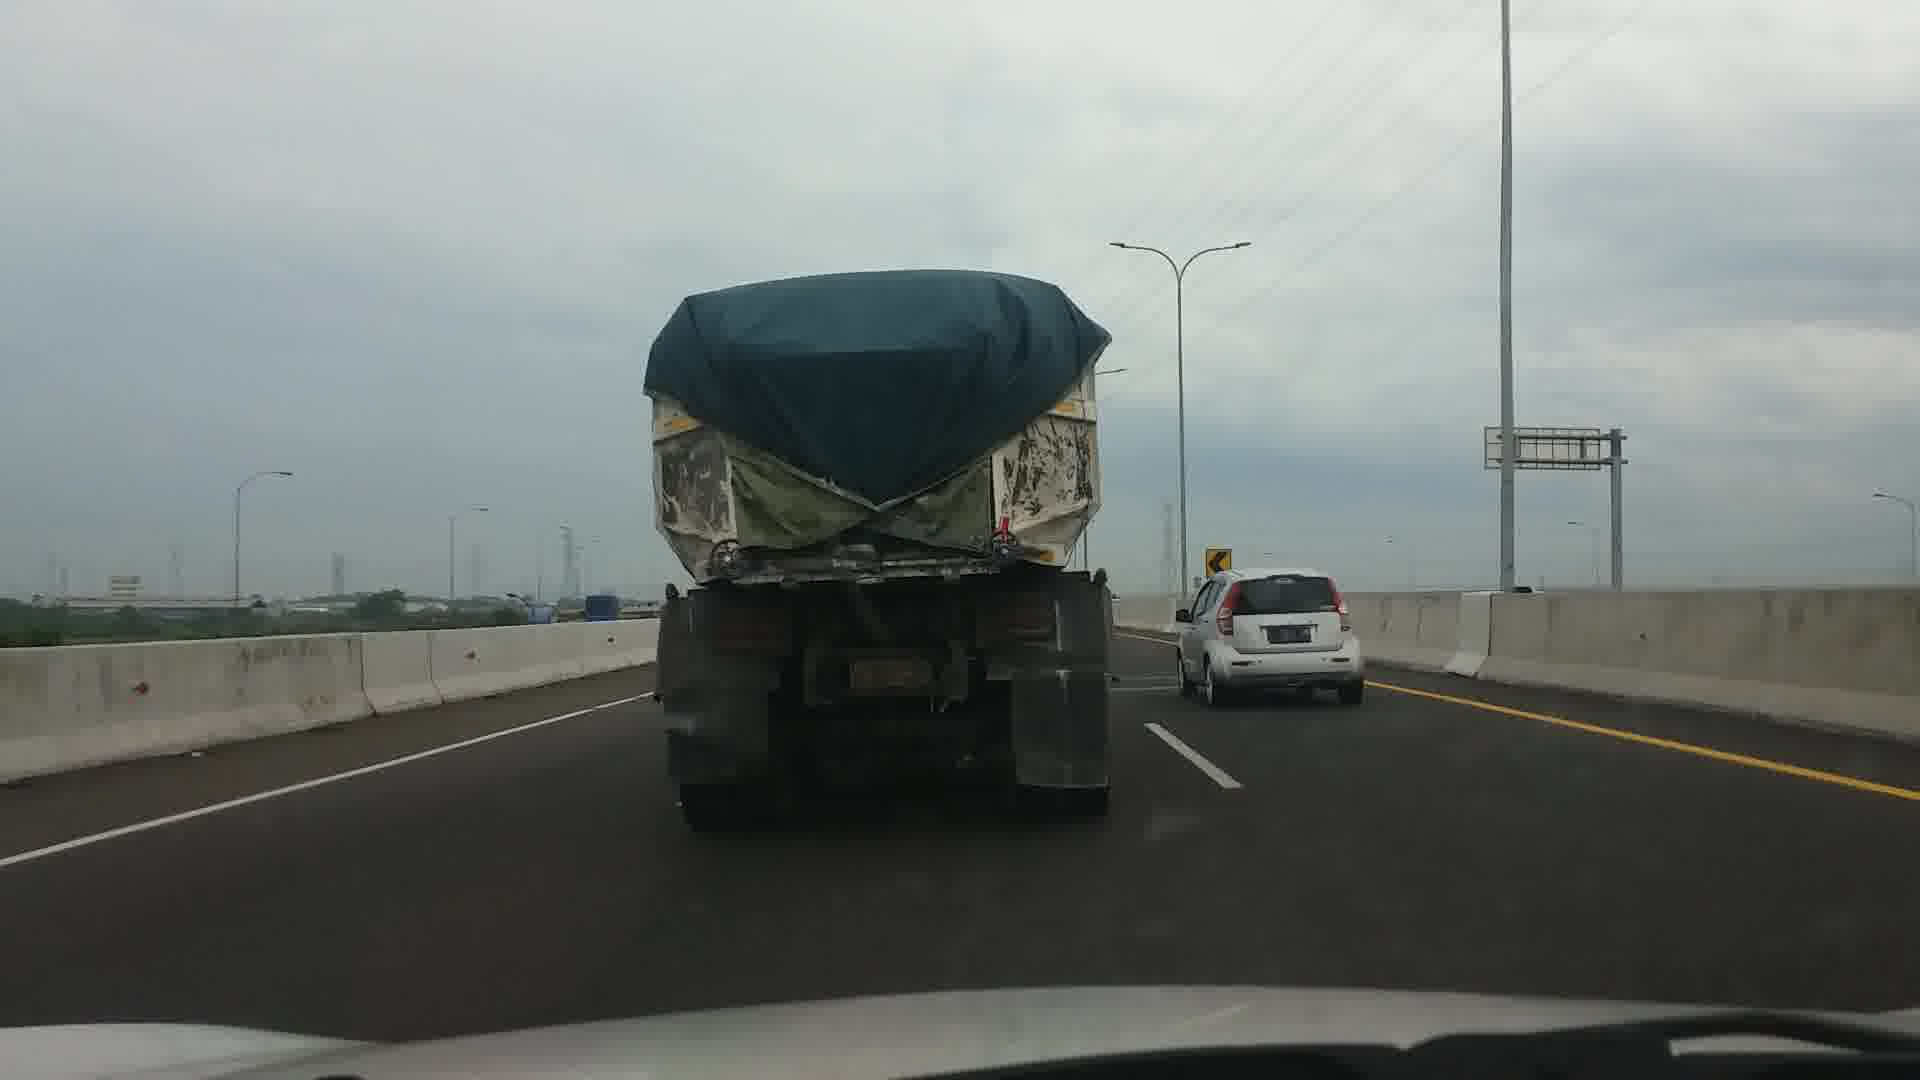plate_positive: (851, 658, 934, 688), (1267, 628, 1311, 644)
